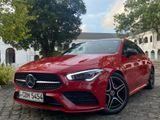car: (14, 37, 156, 114)
